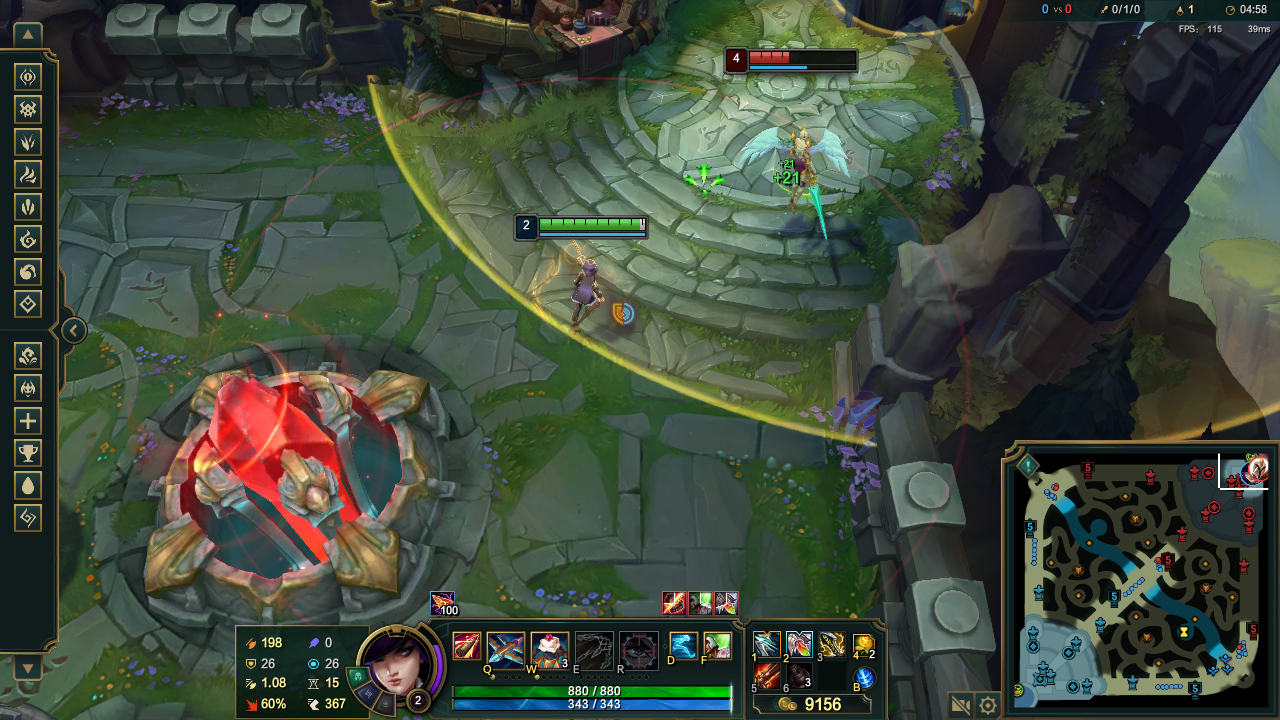DFDSJ: (152, 338, 440, 576)
DFYX: (750, 49, 858, 61)
